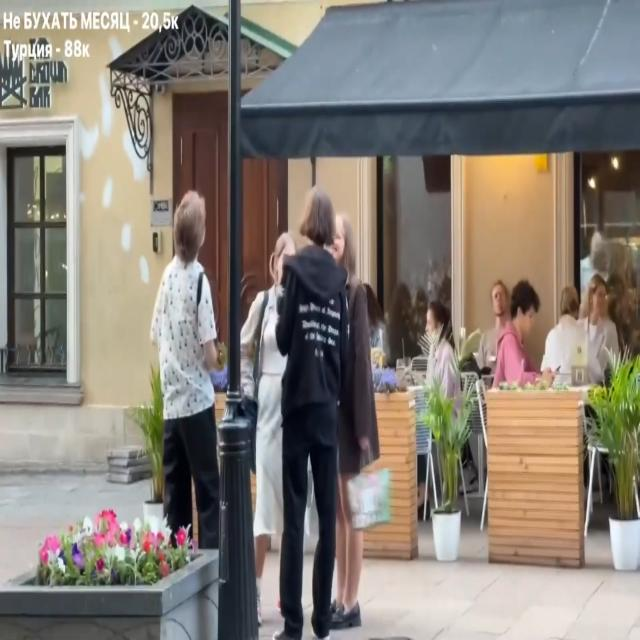Person: (269, 189, 382, 640), (148, 191, 228, 566), (494, 278, 547, 386), (542, 282, 592, 380)
